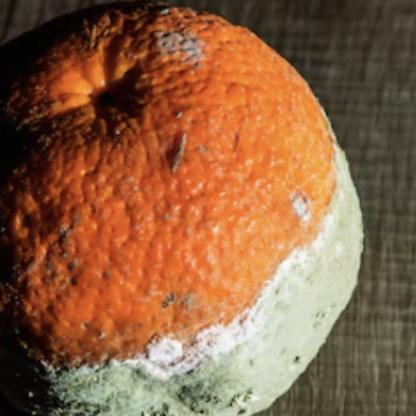rotten: (1, 2, 366, 416)
